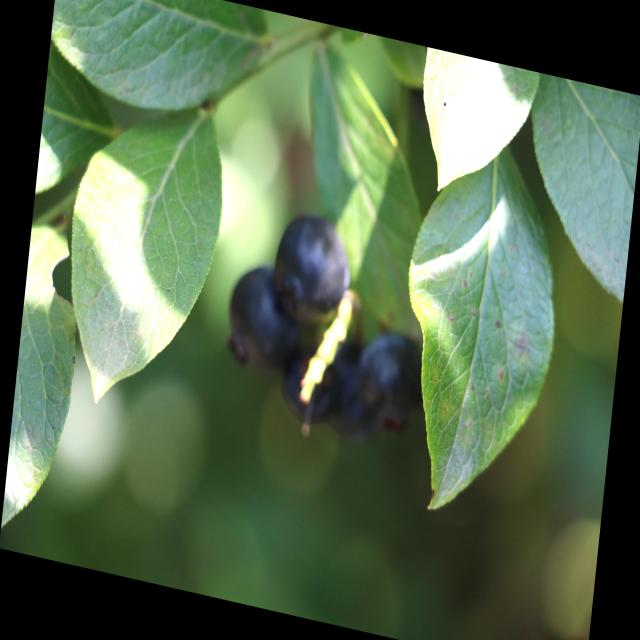blueberry: (266, 202, 361, 340), (220, 253, 310, 385), (351, 320, 440, 444), (314, 335, 390, 460), (274, 331, 349, 434)
